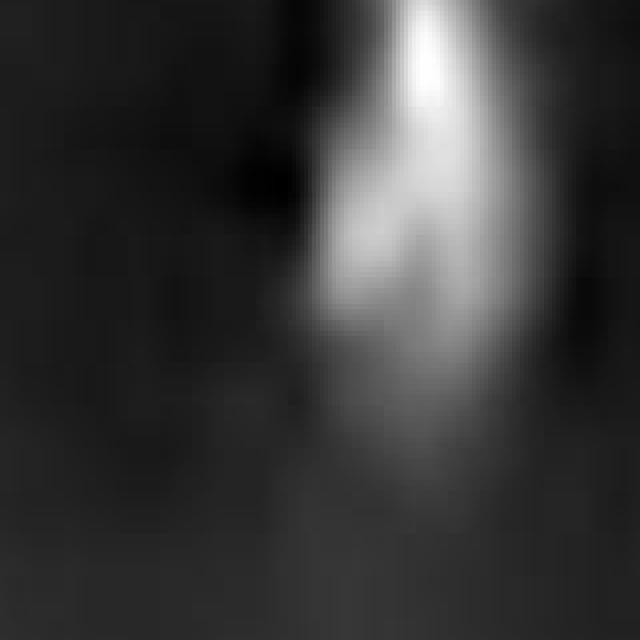person: (269, 1, 561, 449)
